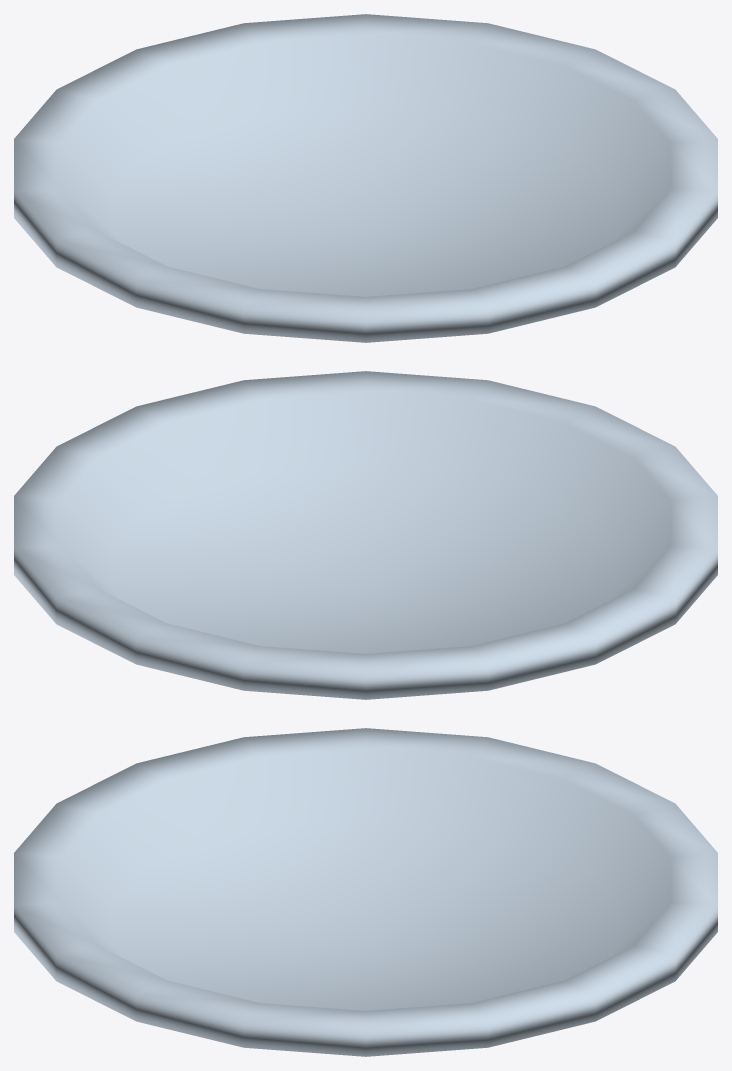
The model's file is bord.fbx.
3 views of the same model, one above another, from view 1: azimuth 30°, elevation 25°; view 2: azimuth 150°, elevation 25°; view 3: azimuth 270°, elevation 25° (orthographic).
Visible parts, largest first — view 1: bord:pCylinder5; view 2: bord:pCylinder5; view 3: bord:pCylinder5.
Boxes of the visible parts, x1,y1,x2,y2 form: bord:pCylinder5: (14, 14, 717, 342); bord:pCylinder5: (14, 371, 717, 699); bord:pCylinder5: (14, 728, 717, 1056).
Size of the model in its own units: 0.6053 by 0.0739 by 0.5961.
